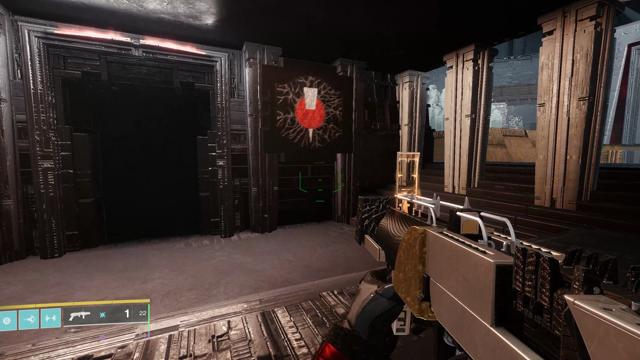kill: (275, 76, 343, 149)
